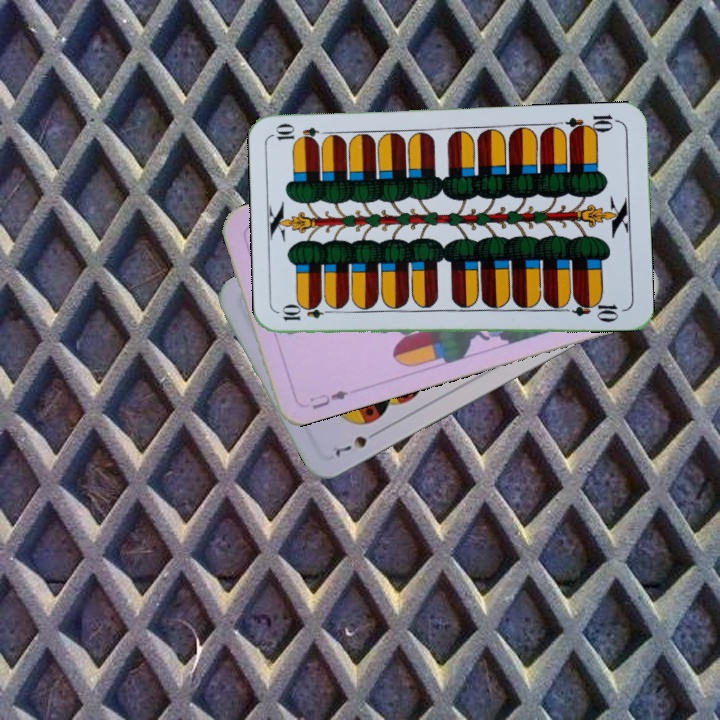E10: (562, 111, 622, 138), (278, 304, 337, 323)
EU: (305, 386, 351, 412)
S7: (331, 426, 383, 458)
